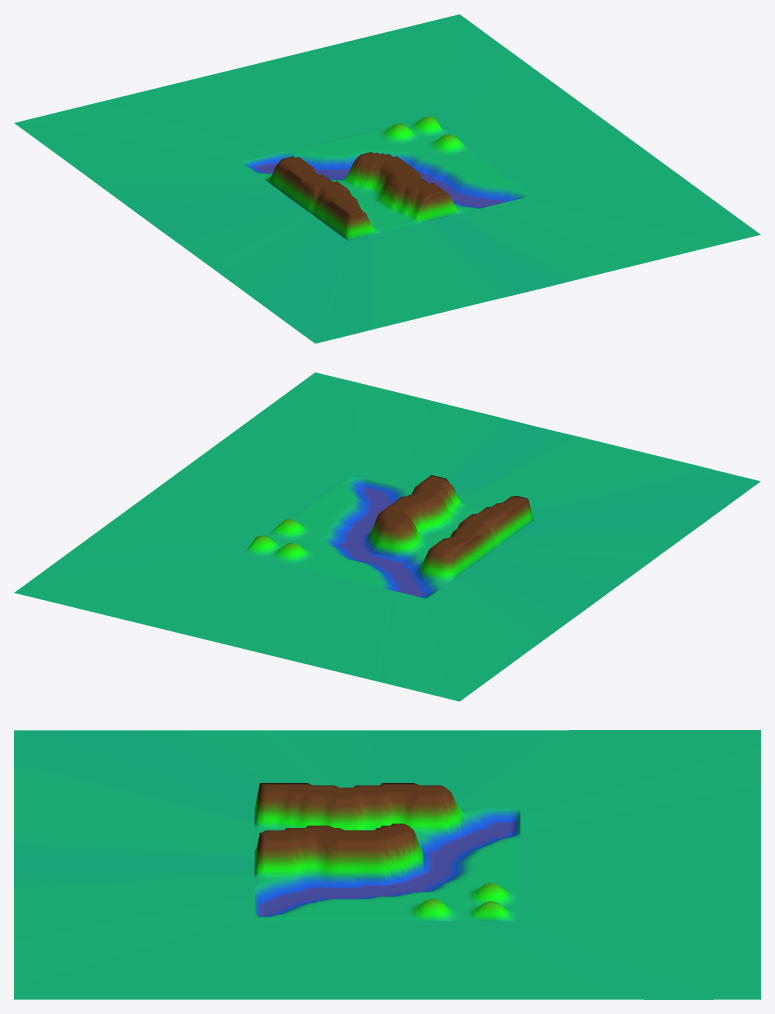
File: testterrain2.fbx
3 renders of one model, top to bottom at view 1: azimuth 30°, elevation 25°; view 2: azimuth 150°, elevation 25°; view 3: azimuth 270°, elevation 25°, orthographic. The views are drawn at different scales.
Parts seen in each view (by area): view 1: pPlane1; view 2: pPlane1; view 3: pPlane1.
Part boxes in pixels (x1,y1,x2,y2): pPlane1: (14,14,760,343); pPlane1: (14,372,760,701); pPlane1: (14,730,760,999).
Size of the model in its own units: 2399 by 144 by 2809.
